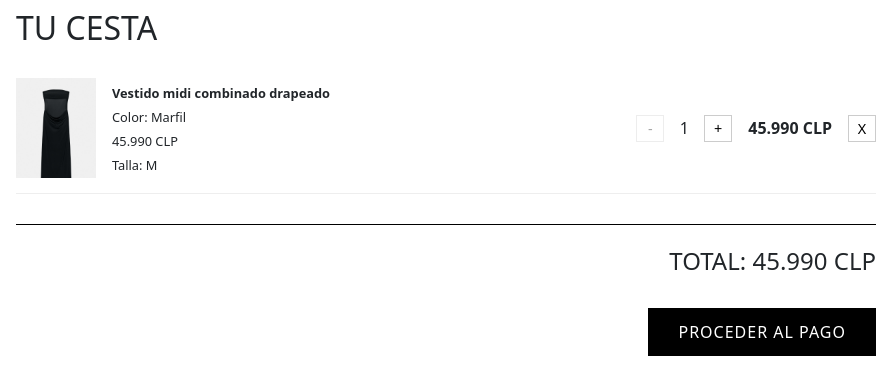
componentes React de la tienda › aumenta la cantidad y persiste el carrito al pulsar el botón
This screenshot has width=893, height=373.
Click the button named "Aumentar cantidad".
click(718, 128)  # box [704,115,732,142]
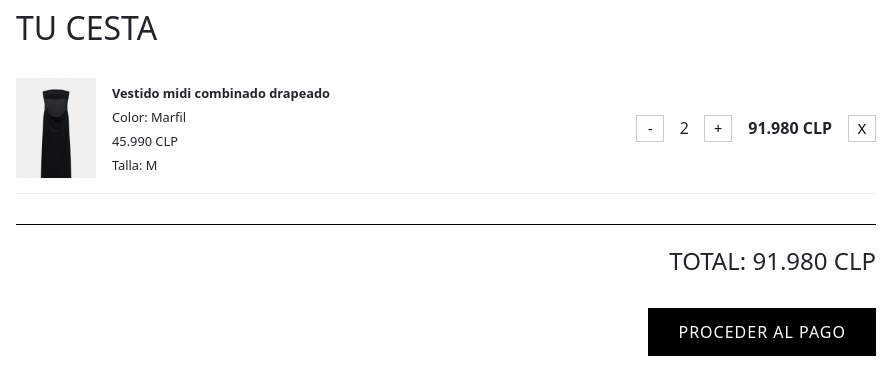
Now the element showing "- 2 +" is shown, box [636,115,732,142]
